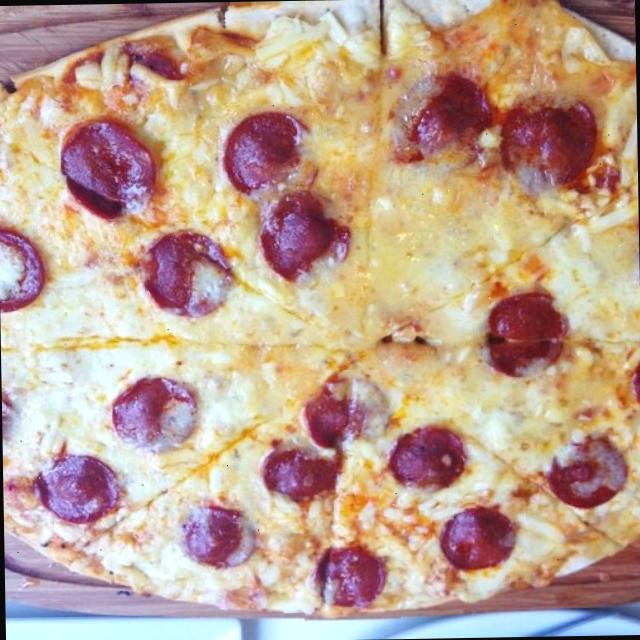pepperoni: (388, 61, 502, 175), (248, 184, 364, 296), (498, 88, 602, 206), (211, 103, 322, 209), (136, 220, 242, 328), (102, 364, 214, 460), (60, 114, 160, 220), (472, 280, 572, 386), (536, 421, 632, 518), (302, 527, 400, 621), (432, 494, 528, 586), (255, 422, 354, 509), (379, 416, 464, 512), (173, 490, 261, 582), (34, 438, 119, 532), (0, 198, 55, 333), (293, 369, 380, 450)
pizza: (0, 0, 640, 611)
